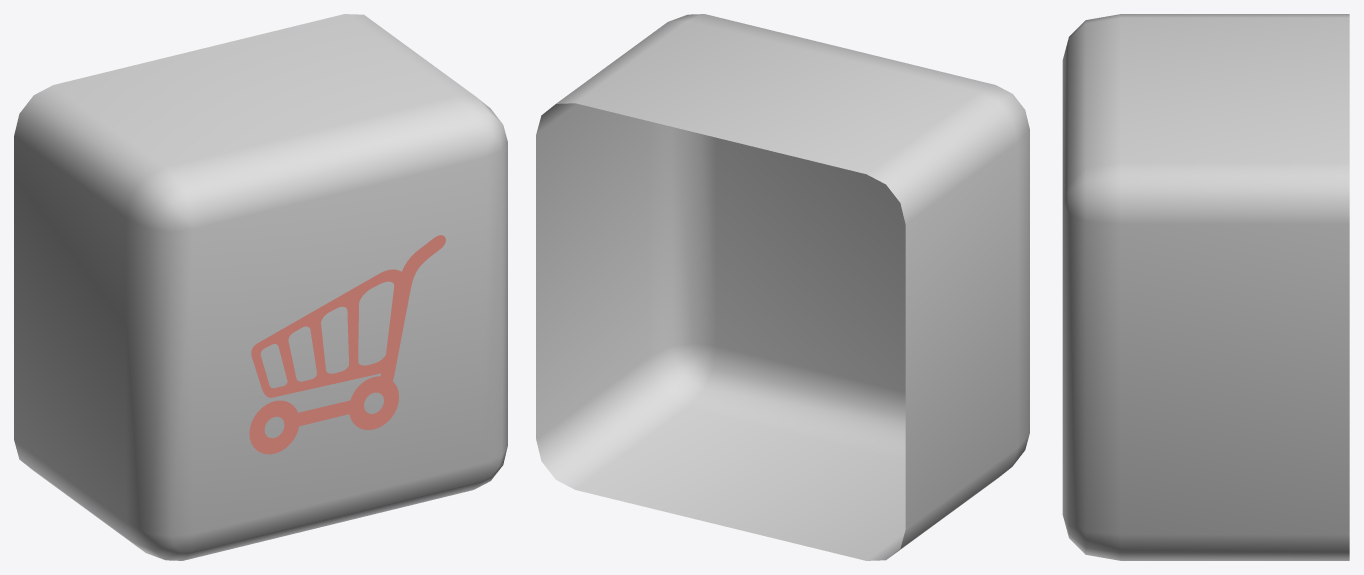
The model's file is DecorMachine_BlockButtons_Shop.FBX.
The picture shows the model from 3 angles, left to right: view 1: azimuth 30°, elevation 25°; view 2: azimuth 150°, elevation 25°; view 3: azimuth 270°, elevation 25°; orthographic projection.
Visible parts, largest first — view 1: DecorMachine_BlockButtons_Shop; view 2: DecorMachine_BlockButtons_Shop; view 3: DecorMachine_BlockButtons_Shop.
Boxes of the visible parts, <box> form: DecorMachine_BlockButtons_Shop: <box>14,14,507,560</box>; DecorMachine_BlockButtons_Shop: <box>536,14,1029,560</box>; DecorMachine_BlockButtons_Shop: <box>1062,14,1349,560</box>.
Bounding box in the file's own units: 3272 × 3272 × 2191.
